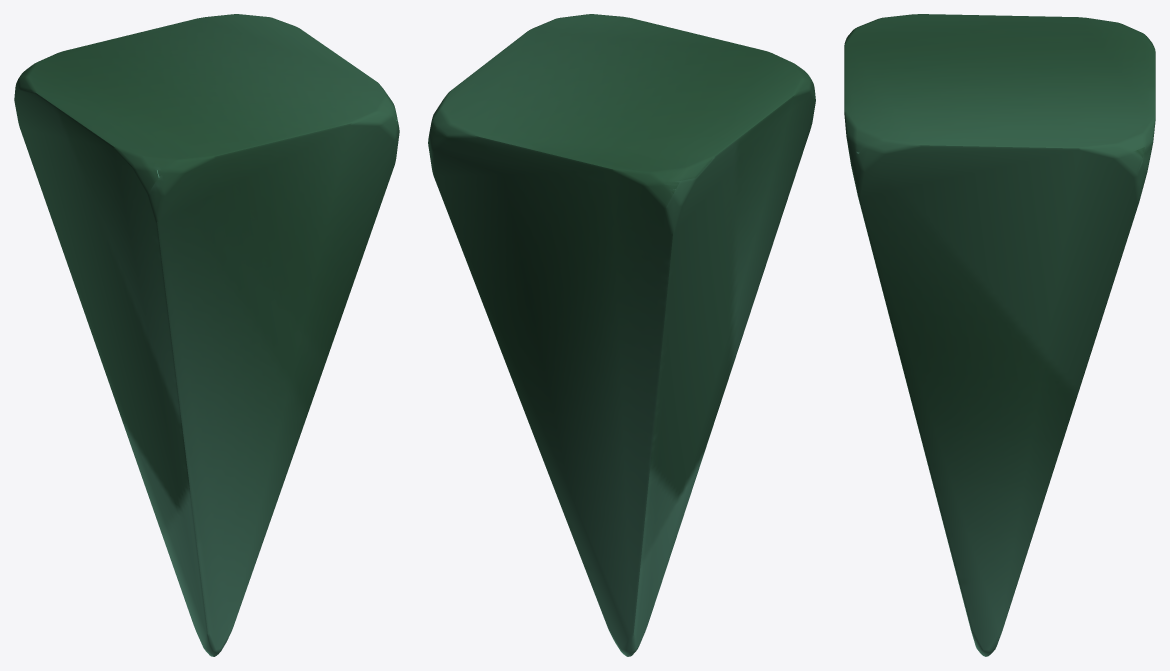
3 views of the same model, side by side, from view 1: azimuth 30°, elevation 25°; view 2: azimuth 150°, elevation 25°; view 3: azimuth 270°, elevation 25° (orthographic).
Visible parts, largest first — view 1: tree_default; view 2: tree_default; view 3: tree_default.
Boxes of the visible parts, left/top/right/bottom form: tree_default: left=14, top=14, right=399, bottom=656; tree_default: left=428, top=14, right=815, bottom=656; tree_default: left=844, top=14, right=1155, bottom=656.
Bounding box in the file's own units: 0.1477 × 0.303 × 0.1477.
1 material, 1 textured.
